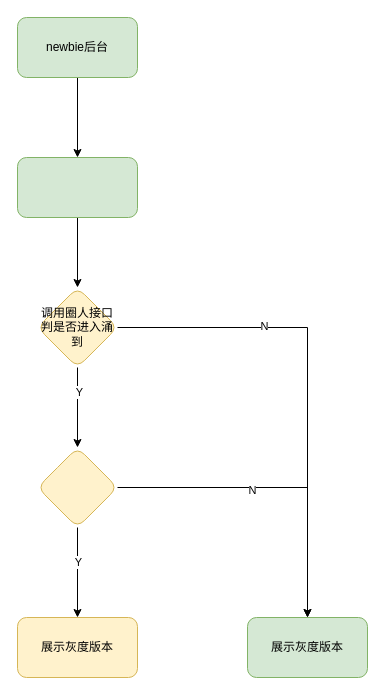
Some shapes in this 385 by 695 pixel diagram are drawn without their labels. The shapes that lost their labels are listed below. From the top down, each one's box as (x1, y1, x2, y2) in pixels, then its label:
(16, 156, 138, 218): 登陆成功
(36, 446, 118, 528): 是否部署前端灰度
